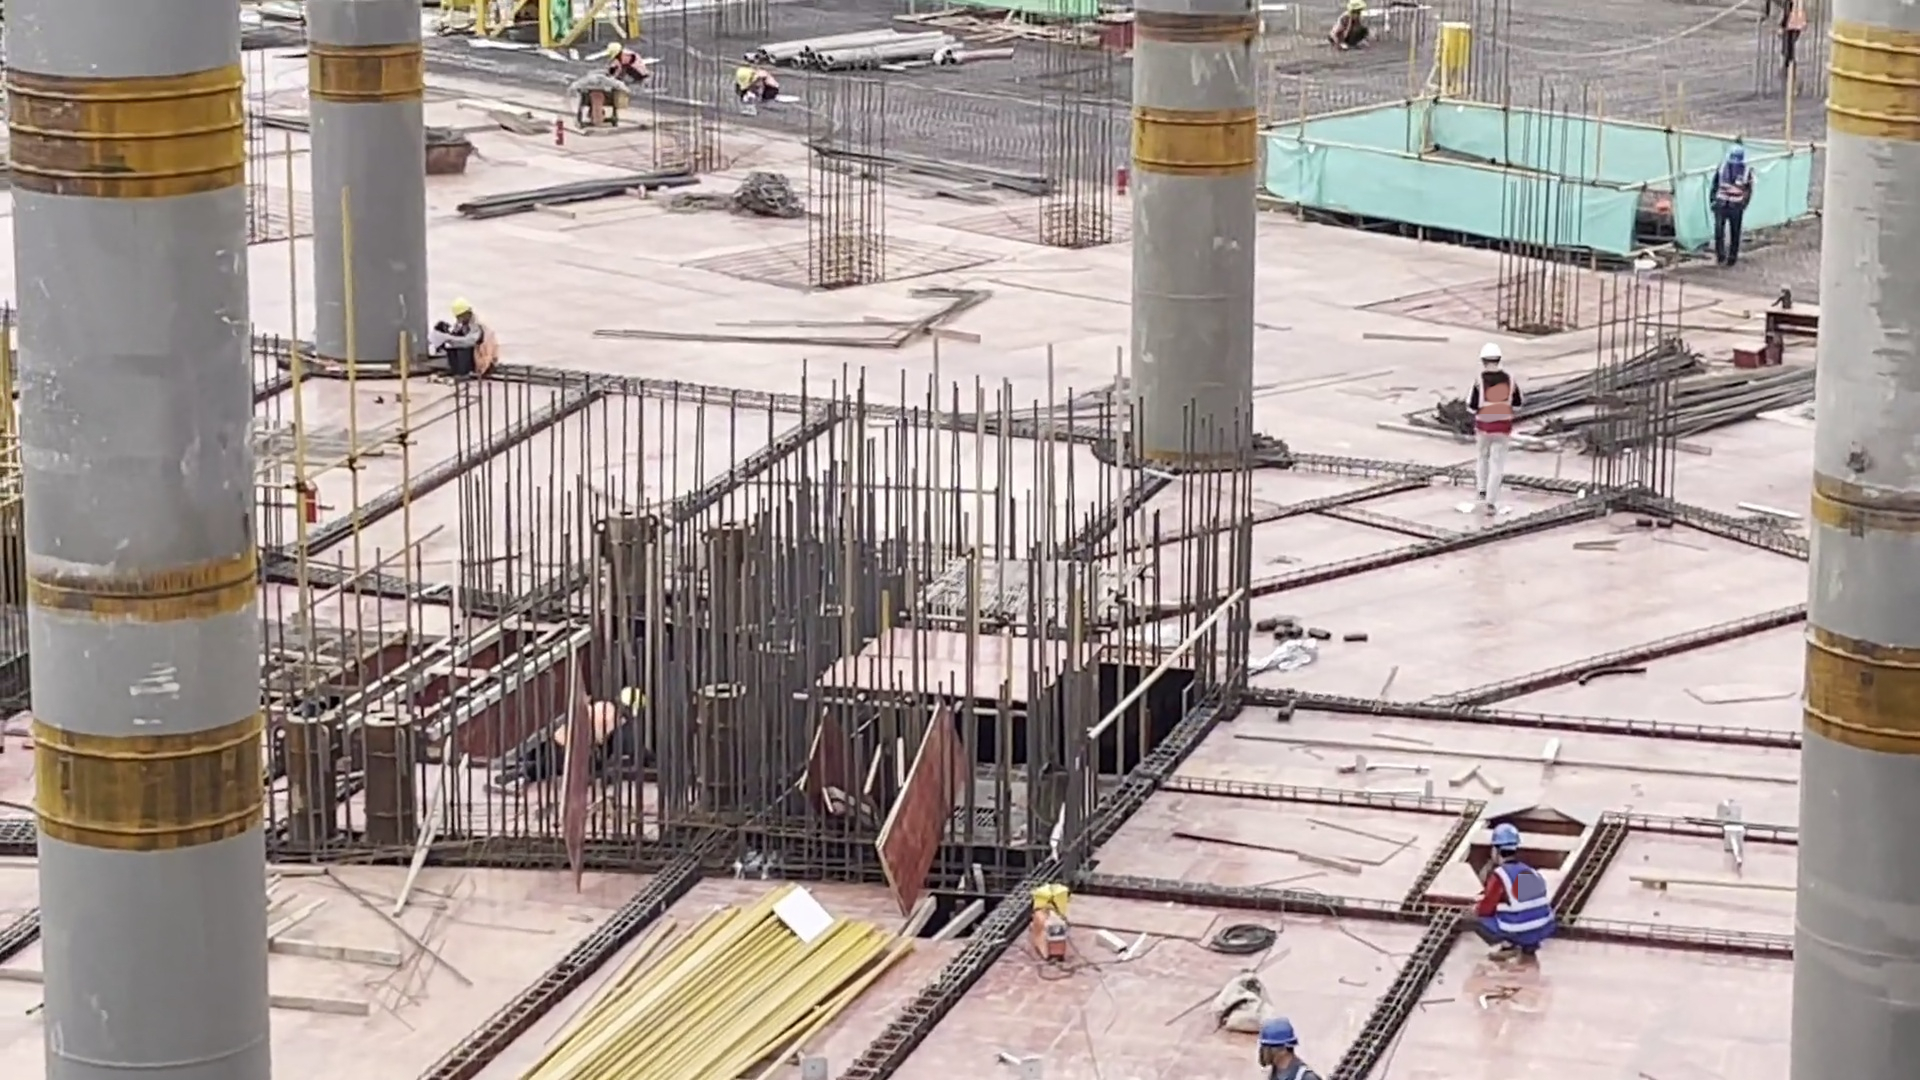ebox: (1433, 21, 1473, 99)
helmet: (1258, 1022, 1298, 1046), (1493, 823, 1521, 846), (451, 299, 474, 316), (1726, 145, 1746, 163), (1482, 344, 1502, 360), (737, 66, 752, 87), (606, 42, 622, 59), (1346, 1, 1364, 10)
person: (1466, 819, 1562, 970), (1469, 343, 1526, 526), (1706, 134, 1753, 265), (437, 294, 493, 379), (1253, 1021, 1320, 1080), (1329, 1, 1377, 57), (1772, 1, 1806, 68), (607, 38, 649, 89), (735, 67, 783, 104)
vest: (1490, 857, 1556, 943), (1478, 368, 1512, 438), (1714, 160, 1752, 215)
